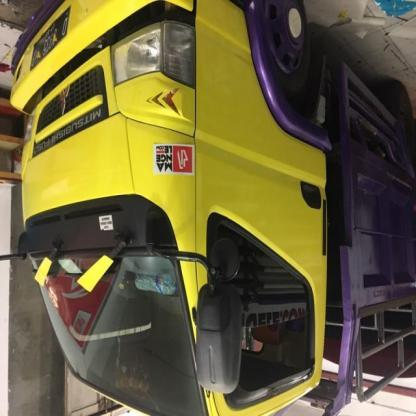truck: (3, 3, 416, 416)
